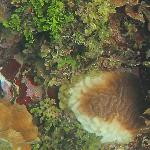dead: (5, 4, 144, 145)
